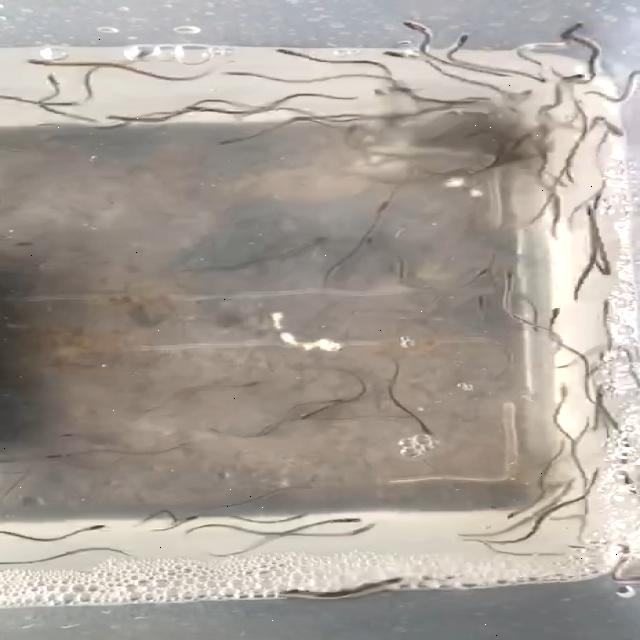inactive_glass_eel: (420, 266, 492, 290), (584, 116, 634, 143), (334, 520, 384, 546), (12, 54, 72, 72), (283, 234, 342, 252), (446, 295, 492, 318), (357, 195, 405, 215), (538, 374, 572, 402), (533, 298, 572, 322), (190, 136, 256, 150), (554, 16, 602, 35), (19, 446, 89, 459), (46, 425, 89, 446), (397, 13, 433, 38), (258, 508, 314, 524), (67, 524, 115, 542), (542, 72, 585, 92), (487, 507, 527, 528), (96, 108, 142, 126), (372, 50, 416, 67), (31, 73, 76, 89), (349, 231, 387, 249), (204, 70, 252, 84), (280, 408, 322, 424), (389, 424, 432, 439), (172, 102, 224, 114), (586, 298, 617, 318), (359, 90, 391, 106), (273, 46, 309, 60), (240, 372, 270, 388), (452, 32, 484, 46), (493, 269, 517, 287), (328, 513, 362, 523), (190, 511, 206, 525)
